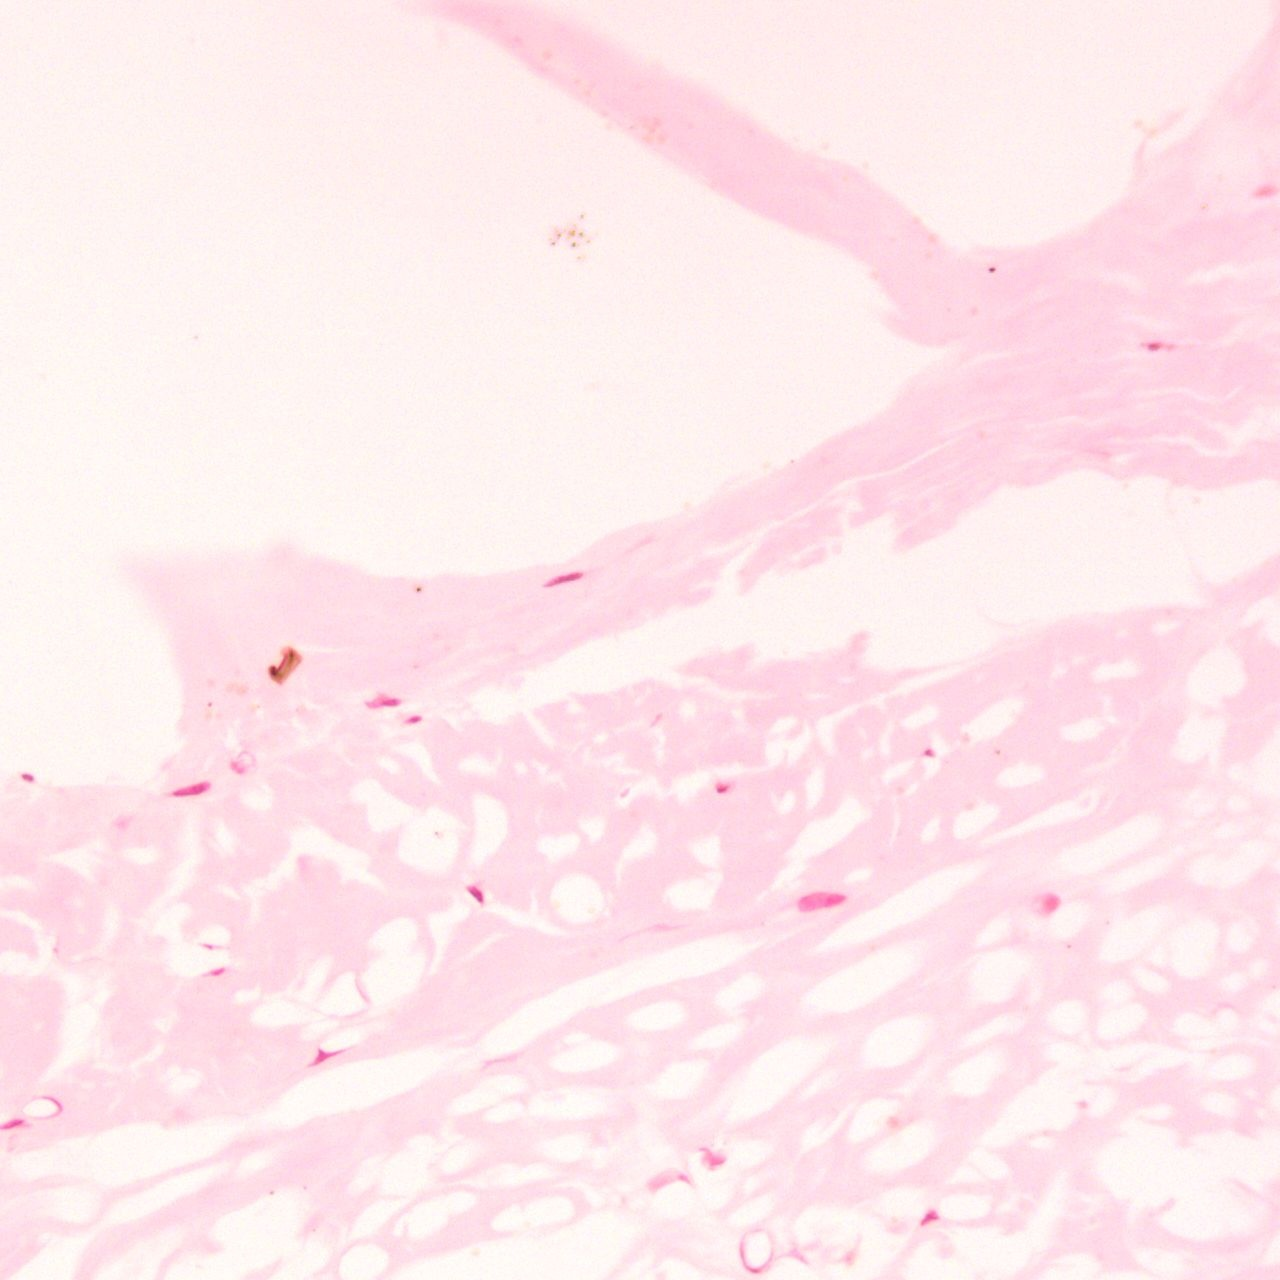dust: (261, 641, 307, 688), (206, 700, 213, 709), (567, 229, 576, 236), (627, 124, 635, 131), (415, 586, 422, 593), (556, 231, 561, 239), (988, 267, 996, 273), (994, 750, 1002, 756), (579, 213, 585, 219), (585, 239, 592, 244), (550, 241, 556, 246), (571, 241, 576, 247), (579, 231, 584, 237)
nucleus-AC: (791, 883, 849, 918), (302, 1037, 346, 1069), (168, 777, 215, 805), (539, 567, 585, 592), (363, 692, 406, 713), (1136, 338, 1184, 353), (465, 881, 489, 908), (404, 713, 424, 726), (714, 784, 730, 794), (20, 772, 33, 783), (924, 749, 934, 757)
